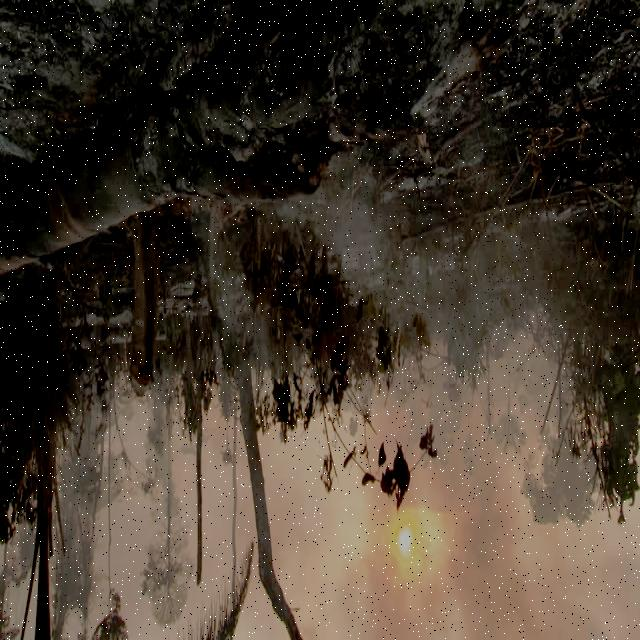asap: (438, 429, 523, 629), (322, 167, 382, 289)
